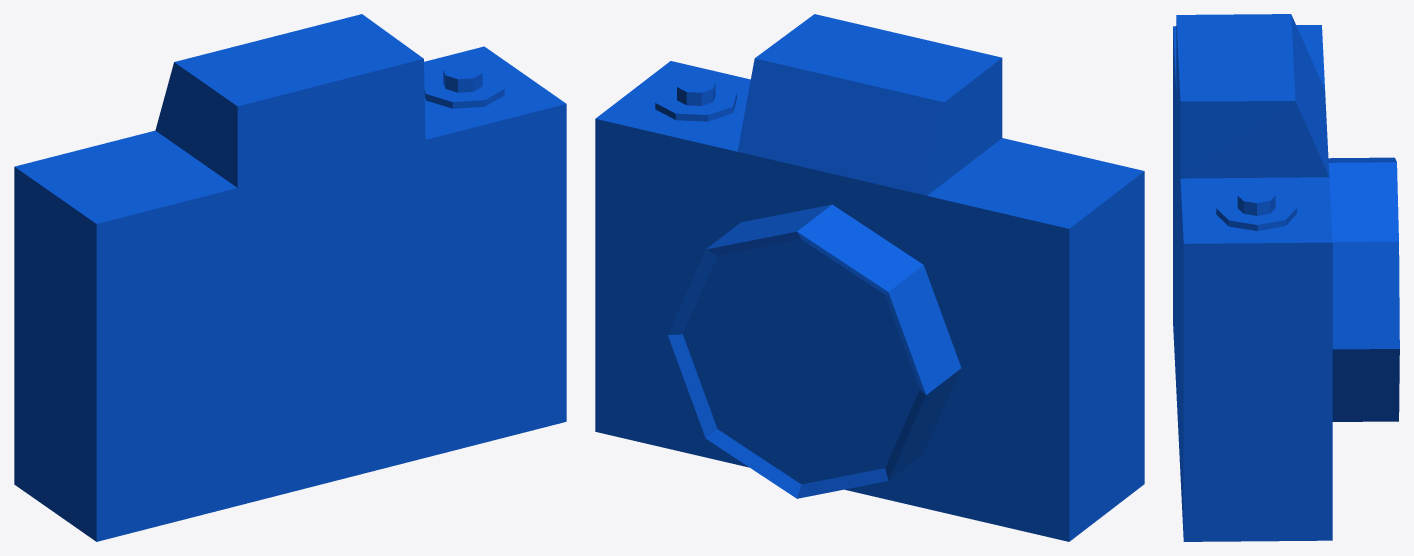
Rendered from camera.glb.
3 views of the same model, side by side, from view 1: azimuth 30°, elevation 25°; view 2: azimuth 150°, elevation 25°; view 3: azimuth 270°, elevation 25° (orthographic). The views are drawn at different scales.
Visible parts, largest first — view 1: Camera.002; view 2: Camera.002; view 3: Camera.002.
Part boxes in pixels (x1=…): Camera.002: x1=14, y1=14, x2=566, y2=541; Camera.002: x1=595, y1=14, x2=1144, y2=541; Camera.002: x1=1173, y1=14, x2=1399, y2=541.
Bounding box in the file's own units: 1.13 × 0.9008 × 0.4943.
